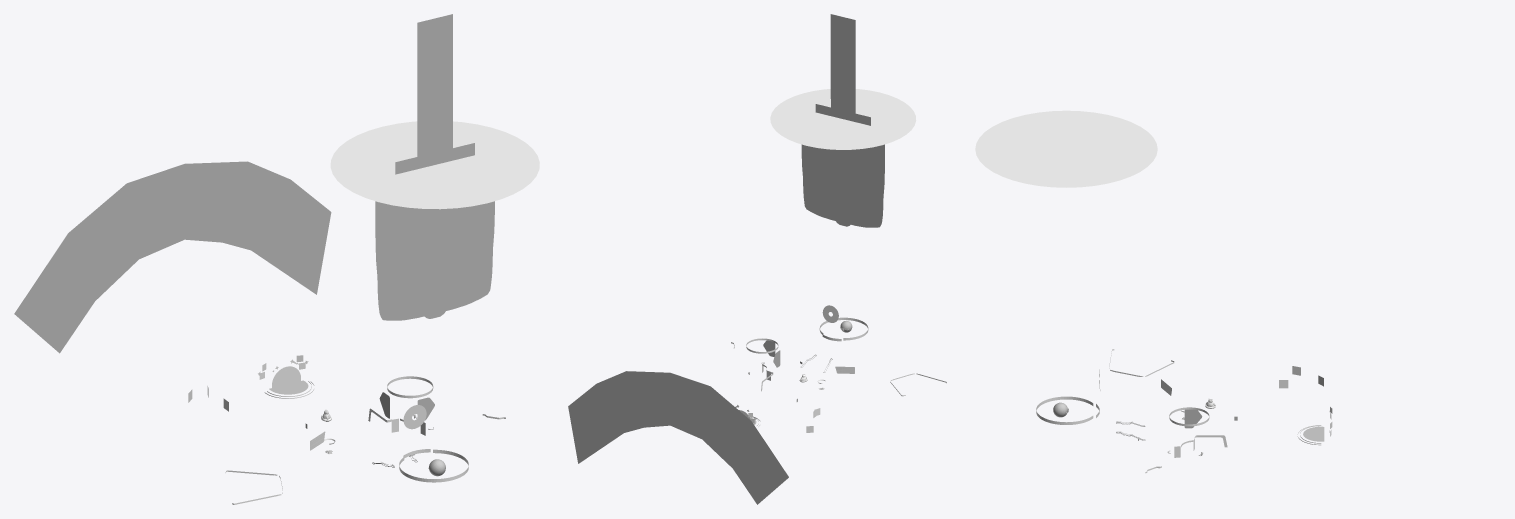
The model's file is pref_sce_lobby_newmaincity_01_lv4.fbx.
3 views of the same model, side by side, from view 1: azimuth 30°, elevation 25°; view 2: azimuth 150°, elevation 25°; view 3: azimuth 270°, elevation 25° (orthographic). The views are drawn at different scales.
Parts seen in each view (by area): view 1: caihong, Cube_2, Quad, Quad (2), Quad (1); view 2: caihong, Cube_2, Quad (2), Quad, Quad (1); view 3: Cube_2.
Boxes of the visible parts, x1,y1,x2,y2 form: caihong: [14, 161, 331, 353]; Cube_2: [330, 121, 539, 209]; Quad: [395, 143, 474, 312]; Quad (2): [375, 201, 494, 320]; Quad (1): [417, 14, 452, 318]; caihong: [568, 371, 788, 504]; Cube_2: [770, 89, 916, 149]; Quad (2): [801, 144, 884, 227]; Quad: [815, 104, 870, 221]; Quad (1): [830, 14, 855, 226]; Cube_2: [975, 110, 1157, 187].
Bounding box in the file's own units: 110 × 160 × 178.
59 materials, 5 textured.
